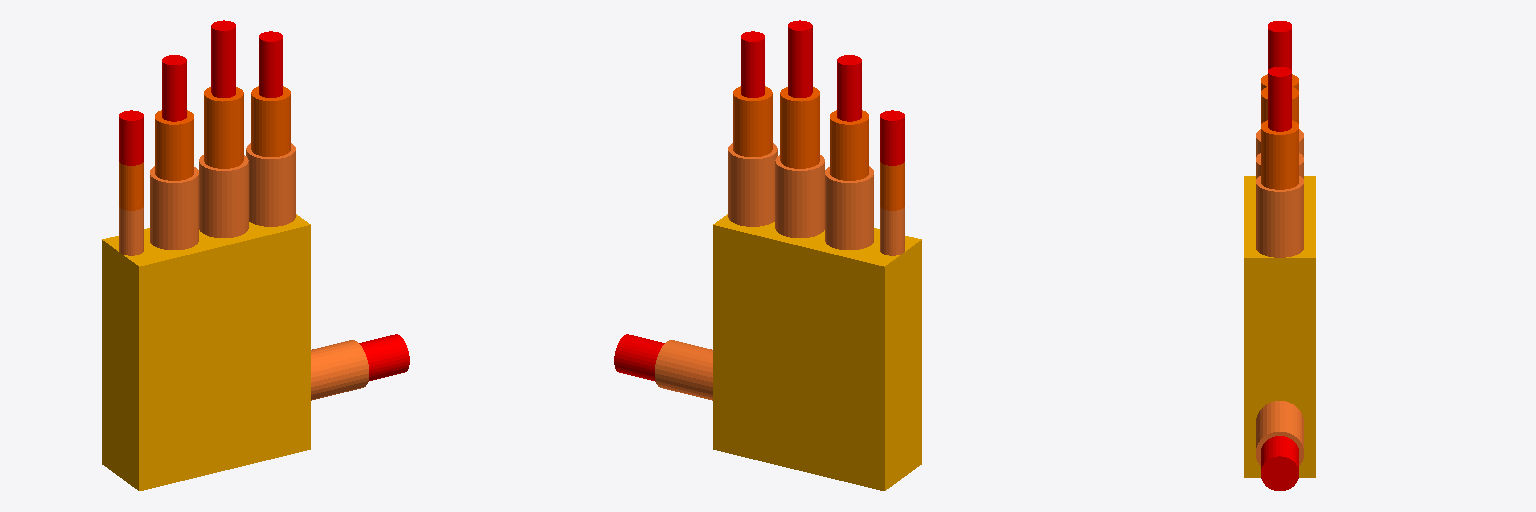
URDF robot description (index):
<?xml version="1.0"?>
<robot name="index">
	<material name="orange">
		<color rgba="1 0.4 0 1"/>
	</material>
	<material name="gold">
		<color rgba="1 0.7 0 1"/>
	</material>
	<material name="coral">
		<color rgba="1 0.5 0.2 1"/>
	</material>
	<material name="red">
		<color rgba="1 0 0 1"/>
	</material>


	<link name="base_link">
		<visual>
			<geometry>
				<box size="0.08 0.03 0.10 " />
			</geometry>
			<material name="gold"/>
		</visual>
	</link>
	<!-- Index -->
	<link name="index_phalange_base">
		<visual>
			<geometry>
				<cylinder length="0.03" radius="0.01"/>
			</geometry>
			<material name="coral"/>
			<origin xyz="0 0 0.015"/>
		</visual>
	</link>

	<link name="index_phalange_middle">
		<visual>
			<geometry>
				<cylinder length="0.025" radius="0.008"/>
			</geometry>
			<material name="orange"/>
			<origin xyz="0 0 0.0125"/>
		</visual>
	</link>

	<link name="index_phalange_end">
		<visual>
			<geometry>
				<cylinder length="0.025" radius="0.005"/>
			</geometry>
			<material name="red"/>
			<origin xyz="0 0 0.0125"/>
		</visual>
	</link>
	

	<joint name="base_link_to_index_base" type="revolute">
		<axis xyz="1 0 0"/>
		<parent link="base_link"/>
		<child link="index_phalange_base"/>
		<limit effort="1000" upper="1.57" lower="-1.65" velocity="0.5"/>
		<origin xyz="0.03 0.0 0.05"/>
	</joint>
	<joint name="index_base_to_middle" type="revolute">
		<axis xyz="1 0 0"/>
		<parent link="index_phalange_base"/>
		<child link="index_phalange_middle"/>
		<limit effort="1000" upper="0" lower="-1.65" velocity="0.5"/>
		<origin xyz="0.0 0.0 0.03"/>
	</joint>
	<joint name="index_middle_to_end" type="revolute">
		<axis xyz="1 0 0"/>
		<parent link="index_phalange_middle"/>
		<child link="index_phalange_end"/>
		<limit effort="1000" upper="0" lower="-1.57" velocity="0.5"/>
		<origin xyz="0.0 0.0 0.025"/>
	</joint>
<!-- annulaire -->
<link name="ring_phalange_base">
		<visual>
			<geometry>
				<cylinder length="0.03" radius="0.01"/>
			</geometry>
			<material name="coral"/>
			<origin xyz="0 0 0.015"/>
		</visual>
	</link>

	<link name="ring_phalange_middle">
		<visual>
			<geometry>
				<cylinder length="0.025" radius="0.008"/>
			</geometry>
			<material name="orange"/>
			<origin xyz="0 0 0.0125"/>
		</visual>
	</link>

	<link name="ring_phalange_end">
		<visual>
			<geometry>
				<cylinder length="0.025" radius="0.005"/>
			</geometry>
			<material name="red"/>
			<origin xyz="0 0 0.0125"/>
		</visual>
	</link>
	

	<joint name="base_link_to_ring_base" type="revolute">
		<axis xyz="1 0 0"/>
		<parent link="base_link"/>
		<child link="ring_phalange_base"/>
		<limit effort="1000" upper="1.57" lower="-1.65" velocity="0.5"/>
		<origin xyz="-0.015 0.0 0.05"/>
	</joint>
	<joint name="ring_base_to_middle" type="revolute">
		<axis xyz="1 0 0"/>
		<parent link="ring_phalange_base"/>
		<child link="ring_phalange_middle"/>
		<limit effort="1000" upper="0" lower="-1.65" velocity="0.5"/>
		<origin xyz="0.0 0.0 0.03"/>
	</joint>
	<joint name="ring_middle_to_end" type="revolute">
		<axis xyz="1 0 0"/>
		<parent link="ring_phalange_middle"/>
		<child link="ring_phalange_end"/>
		<limit effort="1000" upper="0" lower="-1.57" velocity="0.5"/>
		<origin xyz="0.0 0.0 0.025"/>
	</joint>


	<!-- majeur -->
	<link name="middle_phalange_base">
		<visual>
			<geometry>
				<cylinder length="0.03" radius="0.01"/>
			</geometry>
			<material name="coral"/>
			<origin xyz="0 0 0.015"/>
		</visual>
	</link>

	<link name="middle_phalange_middle">
		<visual>
			<geometry>
				<cylinder length="0.03" radius="0.008"/>
			</geometry>
			<material name="orange"/>
			<origin xyz="0 0 0.015"/>
		</visual>
	</link>

	<link name="middle_phalange_end">
		<visual>
			<geometry>
				<cylinder length="0.03" radius="0.005"/>
			</geometry>
			<material name="red"/>
			<origin xyz="0 0 0.015"/>
		</visual>
	</link>
	

	<joint name="base_link_to_middle_base" type="revolute">
		<axis xyz="1 0 0"/>
		<parent link="base_link"/>
		<child link="middle_phalange_base"/>
		<limit effort="1000" upper="1.57" lower="-1.65" velocity="0.5"/>
		<origin xyz="0.008 0.0 0.05"/>
	</joint>
	<joint name="middle_base_to_middle" type="revolute">
		<axis xyz="1 0 0"/>
		<parent link="middle_phalange_base"/>
		<child link="middle_phalange_middle"/>
		<limit effort="1000" upper="0" lower="-1.65" velocity="0.5"/>
		<origin xyz="0.0 0.0 0.03"/>
	</joint>
	<joint name="middle_middle_to_end" type="revolute">
		<axis xyz="1 0 0"/>
		<parent link="middle_phalange_middle"/>
		<child link="middle_phalange_end"/>
		<limit effort="1000" upper="0" lower="-1.57" velocity="0.5"/>
		<origin xyz="0.0 0.0 0.03"/>
	</joint>
	<!-- Pinky -->
	<link name="pinky_phalange_base">
		<visual>
			<geometry>
				<cylinder length="0.02" radius="0.005"/>
			</geometry>
			<material name="coral"/>
			<origin xyz="0 0 0.01"/>
		</visual>
	</link>

	<link name="pinky_phalange_middle">
		<visual>
			<geometry>
				<cylinder length="0.02" radius="0.005"/>
			</geometry>
			<material name="orange"/>
			<origin xyz="0 0 0.010"/>
		</visual>
	</link>

	<link name="pinky_phalange_end">
		<visual>
			<geometry>
				<cylinder length="0.02" radius="0.005"/>
			</geometry>
			<material name="red"/>
			<origin xyz="0 0 0.010"/>
		</visual>
	</link>
	

	<joint name="base_link_to_pinky_base" type="revolute">
		<axis xyz="1 0 0"/>
		<parent link="base_link"/>
		<child link="pinky_phalange_base"/>
		<limit effort="1000" upper="1.57" lower="-1.65" velocity="0.5"/>
		<origin xyz="-0.035 0.0 0.05"/>
	</joint>
	<joint name="pinky_base_to_middle" type="revolute">
		<axis xyz="1 0 0"/>
		<parent link="pinky_phalange_base"/>
		<child link="pinky_phalange_middle"/>
		<limit effort="1000" upper="0" lower="-1.65" velocity="0.5"/>
		<origin xyz="0.0 0.0 0.02"/>
	</joint>
	<joint name="pinky_middle_to_end" type="revolute">
		<axis xyz="1 0 0"/>
		<parent link="pinky_phalange_middle"/>
		<child link="pinky_phalange_end"/>
		<limit effort="1000" upper="0" lower="-1.57" velocity="0.5"/>
		<origin xyz="0.0 0.0 0.02"/>
	</joint>

<!--Thumb-->
	<link name="thumb_phalange_base">
			<visual>
				<geometry>
					<cylinder length="0.03" radius="0.01"/>
				</geometry>
				<material name="coral"/>
				<origin xyz="0 0 0.0150"/>
			</visual>
	</link>
	<link name="thumb_phalange_end">
			<visual>
				<geometry>
					<cylinder length="0.02" radius="0.008"/>
				</geometry>
				<material name="red"/>
				<origin xyz="0 0 0.01"/>
			</visual>
	</link>
	<joint name="thumb_base_palm" type="revolute">
		<axis xyz="1 0 0"/>
		<parent link="base_link"/>
		<child link="thumb_phalange_base"/>
		<origin xyz="0.04 0 -0.025" rpy="0 1.57 0"/>
		<limit effort="1000" upper="0" lower="-1.57" velocity="0.5"/>
	</joint>
	<joint name="thumb_end_to_thumb_base" type="revolute">
		<axis xyz="1 0 0"/>
		<parent link="thumb_phalange_base"/>
		<child link="thumb_phalange_end"/>
		<origin xyz="0 0 0.03" rpy="0 0 0"/>
		<limit effort="1000" upper="0" lower="-1.0" velocity="0.5"/>
	</joint>
</robot>

--- Render facts (derived) ---
3 views of the same robot in one strip: view 1: azimuth 30°, elevation 25°; view 2: azimuth 150°, elevation 25°; view 3: azimuth 270°, elevation 25° (orthographic).
Robot: index — 15 links, 14 joints (14 revolute); root link base_link; default pose: every joint at zero.
Links seen in each view (by area): view 1: base_link, middle_phalange_base, ring_phalange_base, index_phalange_base, middle_phalange_middle, thumb_phalange_base, index_phalange_middle, ring_phalange_middle, middle_phalange_end, thumb_phalange_end, ring_phalange_end, index_phalange_end (+3 smaller); view 2: base_link, middle_phalange_base, ring_phalange_base, index_phalange_base, middle_phalange_middle, thumb_phalange_base, index_phalange_middle, ring_phalange_middle, middle_phalange_end, thumb_phalange_end, ring_phalange_end, index_phalange_end (+3 smaller); view 3: base_link, index_phalange_base, index_phalange_middle, thumb_phalange_base, thumb_phalange_end, index_phalange_end, middle_phalange_end.
Boxes of the visible links, bbox=[...] form: base_link: bbox=[102, 214, 310, 490]; middle_phalange_base: bbox=[199, 155, 248, 237]; ring_phalange_base: bbox=[150, 166, 198, 249]; index_phalange_base: bbox=[246, 143, 295, 226]; middle_phalange_middle: bbox=[204, 87, 243, 168]; thumb_phalange_base: bbox=[311, 340, 368, 400]; index_phalange_middle: bbox=[251, 86, 290, 156]; ring_phalange_middle: bbox=[155, 110, 193, 180]; middle_phalange_end: bbox=[211, 20, 235, 97]; thumb_phalange_end: bbox=[359, 334, 409, 381]; ring_phalange_end: bbox=[162, 55, 186, 121]; index_phalange_end: bbox=[259, 31, 282, 97]; base_link: bbox=[713, 214, 921, 490]; middle_phalange_base: bbox=[775, 155, 824, 237]; ring_phalange_base: bbox=[825, 166, 873, 249]; index_phalange_base: bbox=[728, 143, 777, 226]; middle_phalange_middle: bbox=[780, 87, 819, 168]; thumb_phalange_base: bbox=[655, 340, 712, 400]; index_phalange_middle: bbox=[733, 86, 772, 156]; ring_phalange_middle: bbox=[830, 110, 868, 180]; middle_phalange_end: bbox=[788, 20, 812, 97]; thumb_phalange_end: bbox=[614, 334, 664, 381]; ring_phalange_end: bbox=[837, 55, 861, 121]; index_phalange_end: bbox=[741, 31, 764, 97]; base_link: bbox=[1244, 176, 1315, 477]; index_phalange_base: bbox=[1256, 176, 1303, 257]; index_phalange_middle: bbox=[1261, 120, 1298, 189]; thumb_phalange_base: bbox=[1256, 401, 1303, 465]; thumb_phalange_end: bbox=[1261, 436, 1298, 490]; index_phalange_end: bbox=[1268, 67, 1291, 131]; middle_phalange_end: bbox=[1268, 22, 1291, 69].
Bounding box of the posed robot: 0.13 × 0.03 × 0.19 m (x, y, z).
Geometry: primitives only (box / cylinder / sphere), no mesh files.